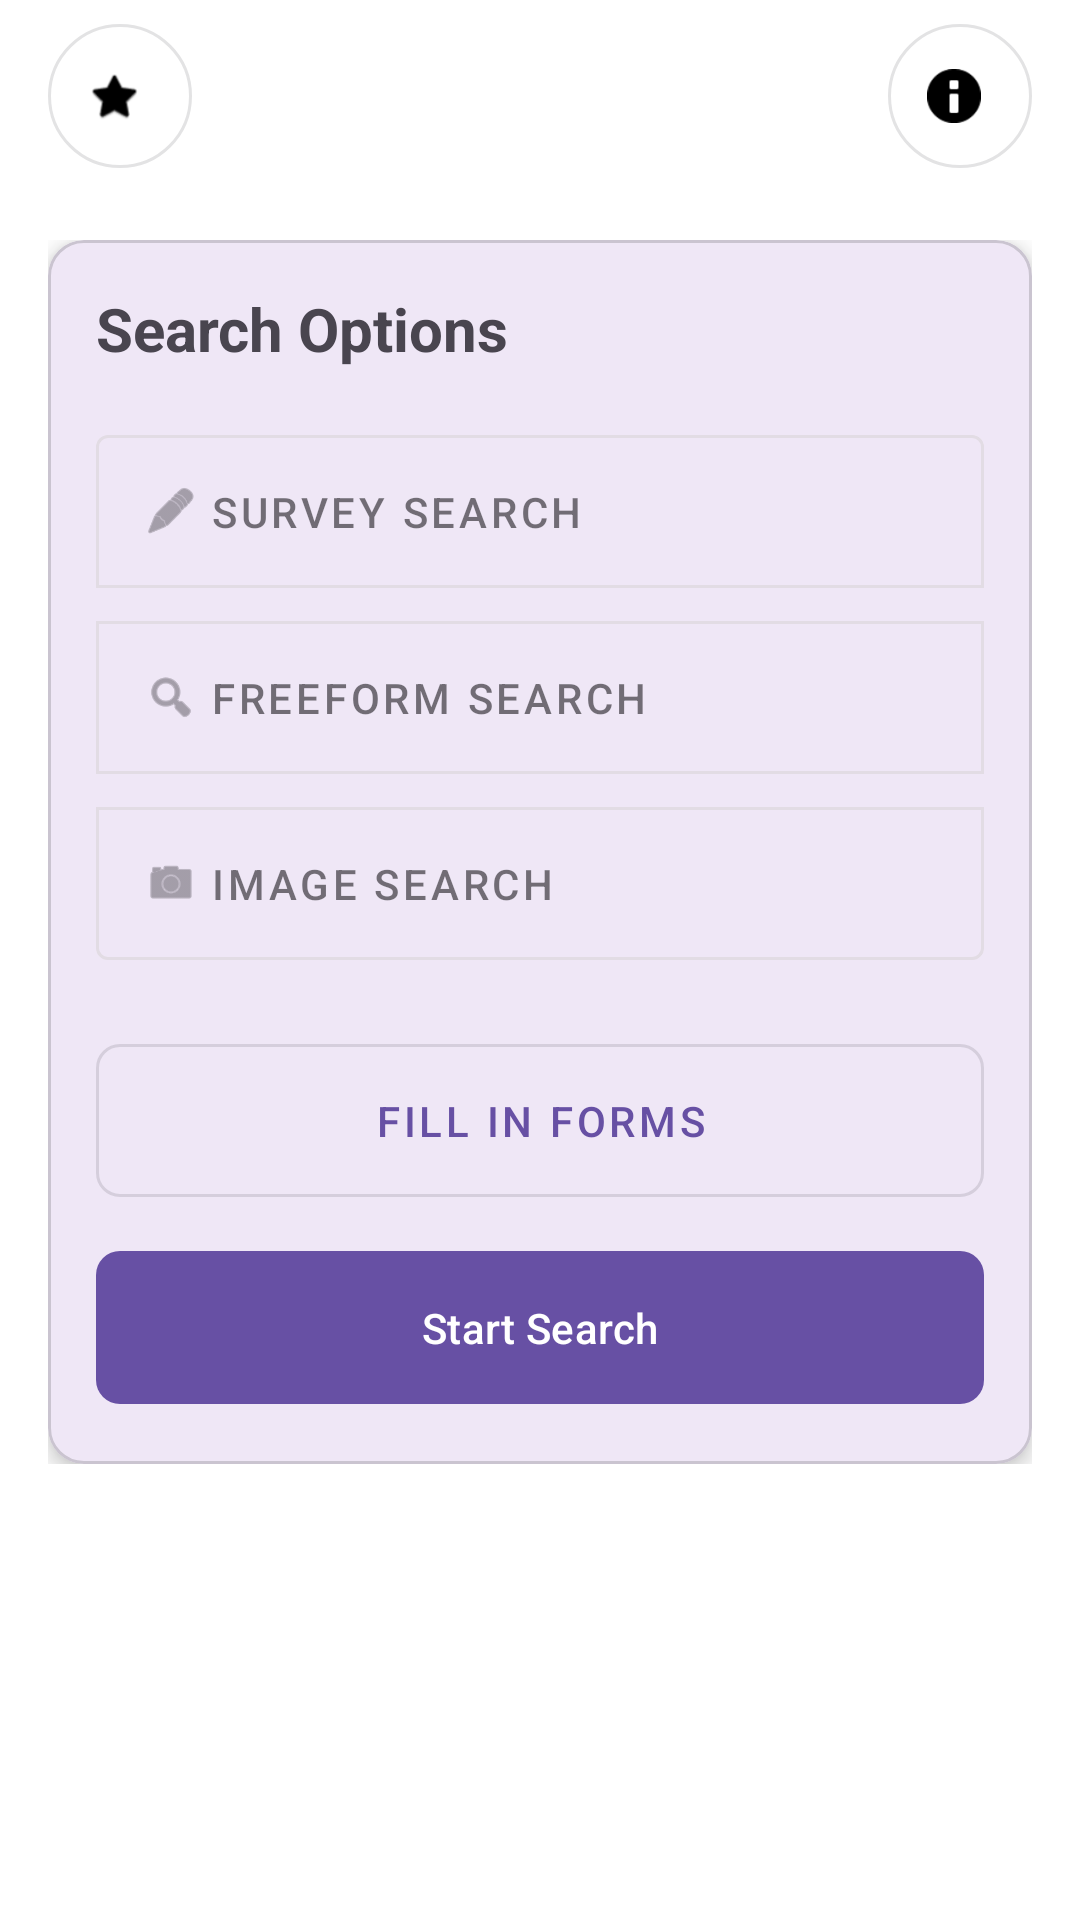

Point at icon controls on the screen. Image size 1080 x 1920, points as [x,y].
info: [960,96]
star: [120,96]
